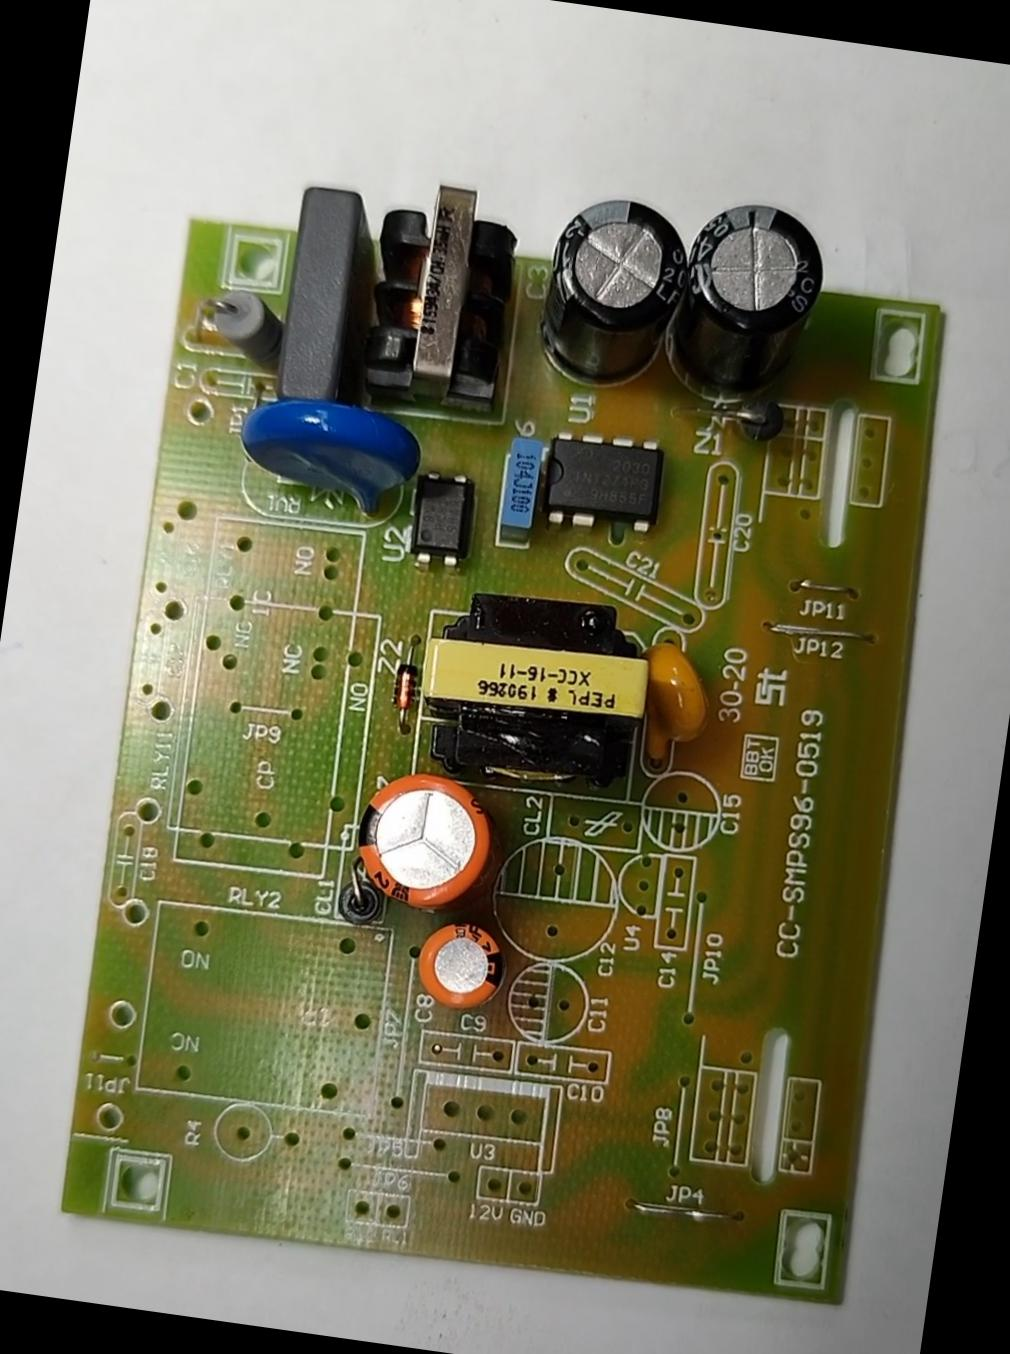Cap1: (345, 756, 500, 920)
Cap2: (407, 914, 516, 1015)
Cap3: (530, 188, 698, 402)
Cap4: (671, 192, 834, 415)
MOSFET: (535, 422, 671, 540)
Mov: (228, 389, 432, 525)
Resistor: (204, 277, 292, 382)
Transformer: (407, 574, 664, 779), (356, 169, 525, 407)
